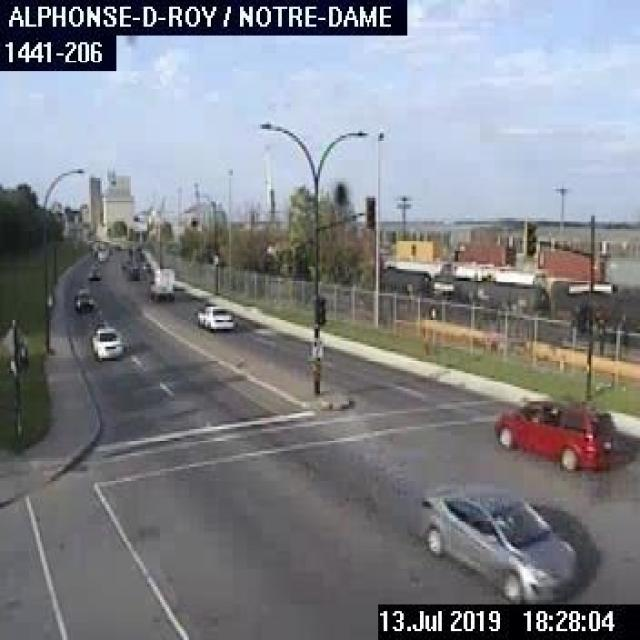vehicle: (418, 480, 580, 599), (495, 389, 625, 470), (88, 321, 124, 360), (192, 300, 232, 331), (145, 266, 176, 302), (71, 284, 92, 312), (86, 266, 102, 279)
